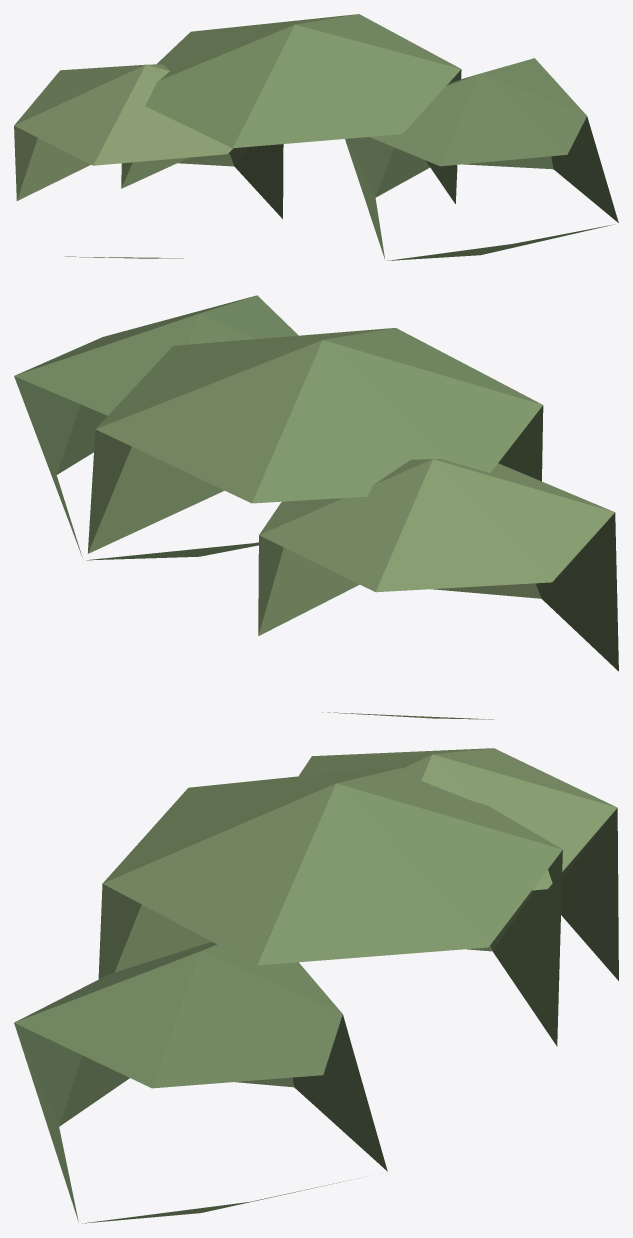
Rendered from veg_shrub_cluster.glb.
3 views of the same model, one above another, from view 1: azimuth 30°, elevation 25°; view 2: azimuth 150°, elevation 25°; view 3: azimuth 270°, elevation 25° (orthographic). The views are drawn at different scales.
Bounding box in the file's own units: 0.8079 × 0.38 × 0.6277.
